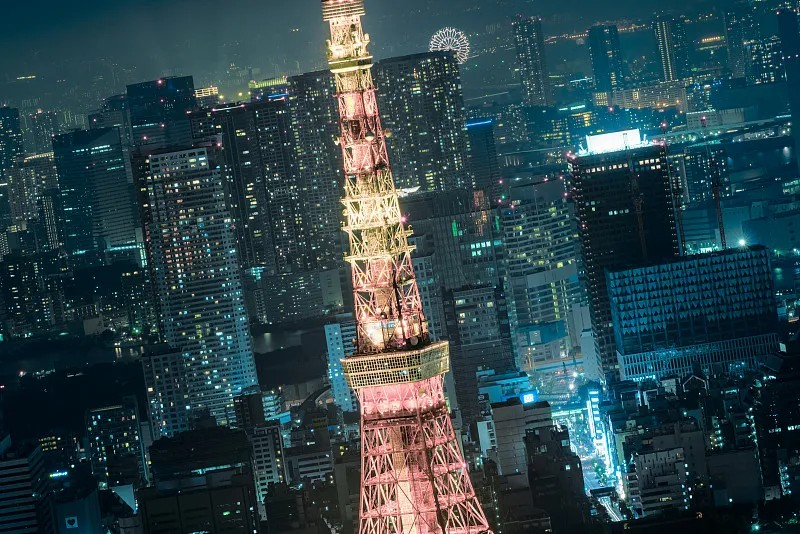Tokyo: (315, 1, 496, 534)
